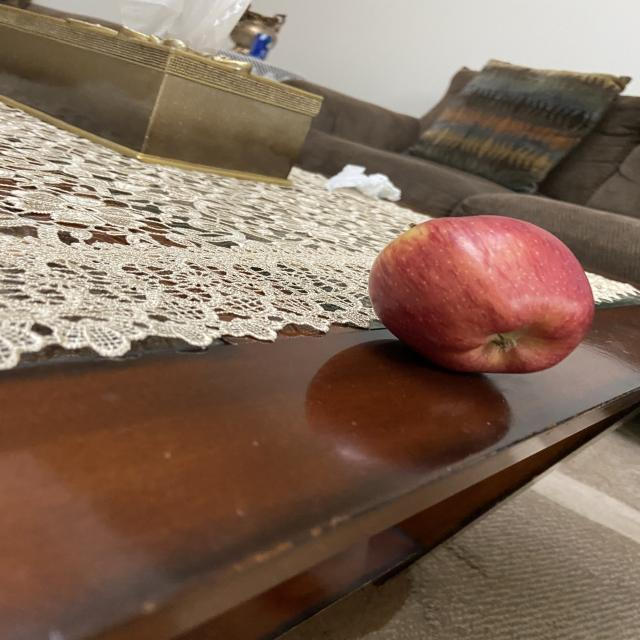apple: (374, 209, 602, 381)
